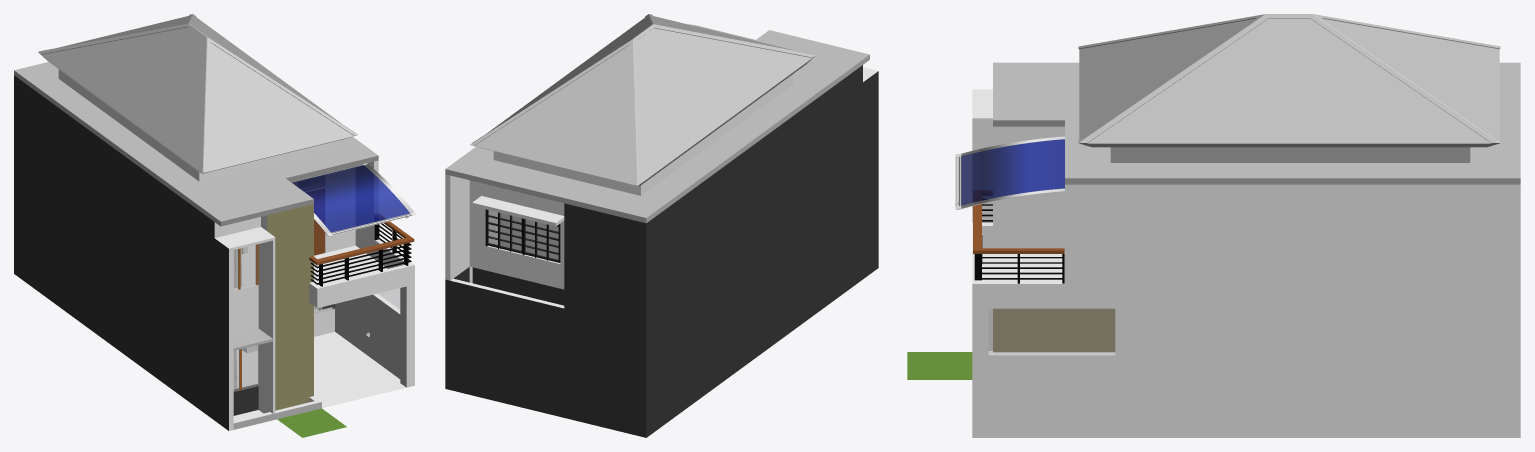
Rendered from house.obj.
The picture shows the model from 3 angles, left to right: view 1: azimuth 30°, elevation 25°; view 2: azimuth 150°, elevation 25°; view 3: azimuth 270°, elevation 25°; orthographic projection. The views are drawn at different scales.
Parts seen in each view (by area): view 1: Mesh140 Model, Mesh18 Group15 Model, Mesh96 Avent_2_1 Model, Mesh16 Group13 Model, Mesh2 Group2 Model, Mesh4 Group4 Model; view 2: Mesh140 Model, Mesh18 Group15 Model, Mesh12 Aluminiumwindows3 pen2 Group10 Model, Mesh10 Aluminiumwindows1 pen1 Group10 Model, Mesh13 Aluminiumwindows4 pen2 Group10 Model, Mesh11 Aluminiumwindows2 pen1 Group10 Model; view 3: Mesh140 Model, Mesh18 Group15 Model, Mesh96 Avent_2_1 Model.
Boxes of the visible parts, bbox=[...] form: Mesh140 Model: bbox=[14, 62, 414, 437]; Mesh18 Group15 Model: bbox=[38, 14, 357, 173]; Mesh96 Avent_2_1 Model: bbox=[291, 163, 416, 235]; Mesh16 Group13 Model: bbox=[233, 345, 258, 391]; Mesh2 Group2 Model: bbox=[233, 244, 258, 290]; Mesh4 Group4 Model: bbox=[307, 189, 324, 255]; Mesh140 Model: bbox=[445, 30, 878, 437]; Mesh18 Group15 Model: bbox=[470, 14, 815, 186]; Mesh12 Aluminiumwindows3 pen2 Group10 Model: bbox=[522, 231, 560, 262]; Mesh10 Aluminiumwindows1 pen1 Group10 Model: bbox=[485, 222, 522, 253]; Mesh13 Aluminiumwindows4 pen2 Group10 Model: bbox=[522, 218, 560, 240]; Mesh11 Aluminiumwindows2 pen1 Group10 Model: bbox=[485, 209, 522, 231]; Mesh140 Model: bbox=[907, 62, 1520, 437]; Mesh18 Group15 Model: bbox=[1078, 14, 1500, 147]; Mesh96 Avent_2_1 Model: bbox=[955, 136, 1064, 209].
Size of what is drawn, in the model's own units: 6000 by 8842 by 13420.
